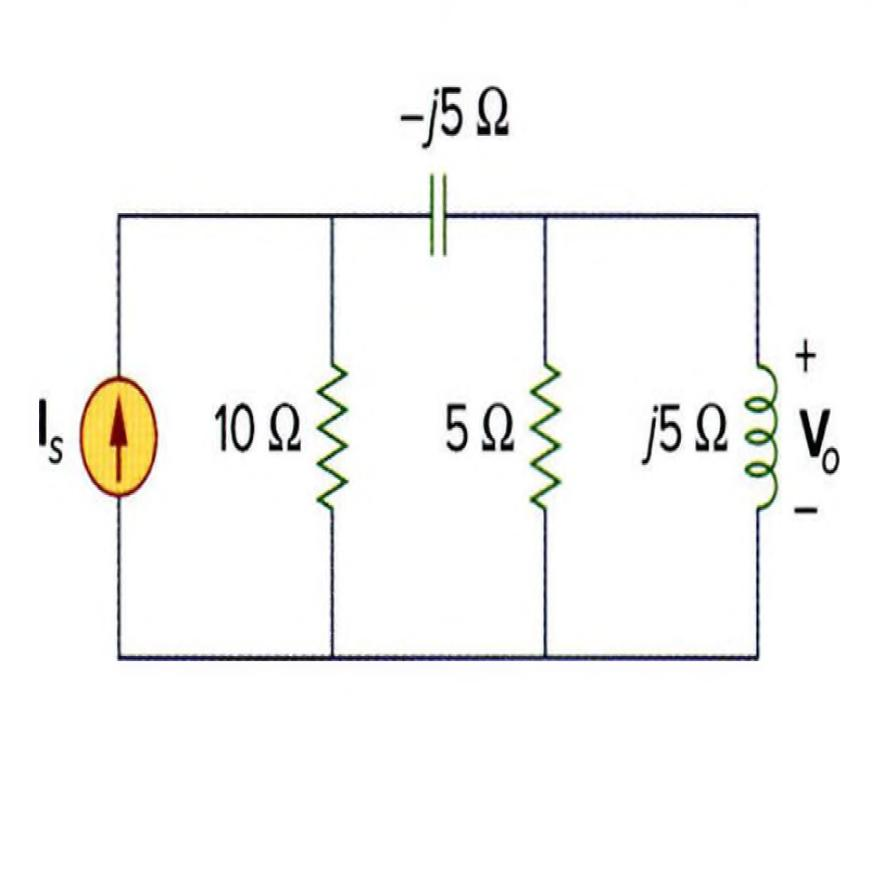C1: (408, 158, 463, 270)
I1: (78, 374, 158, 498)
L2: (736, 342, 787, 529)
